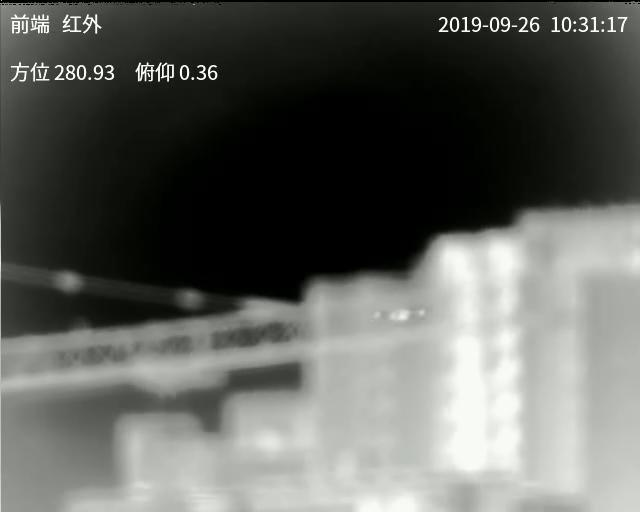uav: (371, 301, 428, 326)
